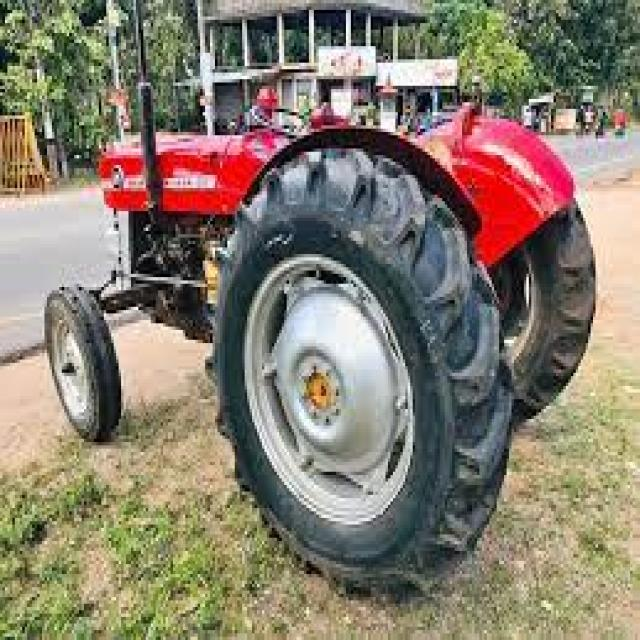tractor: (44, 13, 593, 584)
